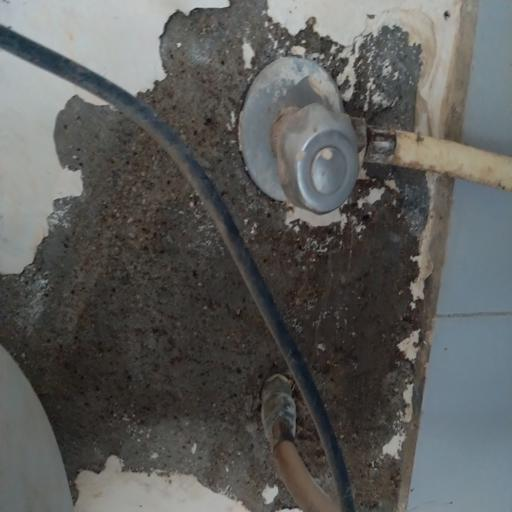spalling: (0, 13, 436, 511)
